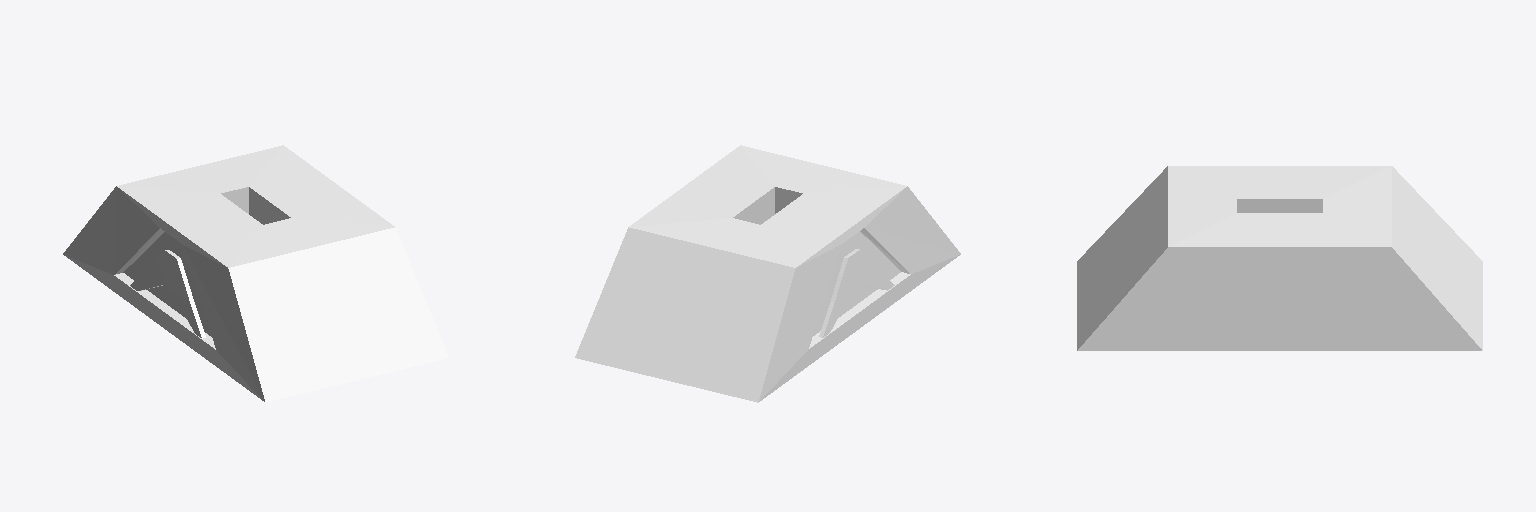
File: swordpedestal.obj
3 renders of one model, left to right at view 1: azimuth 30°, elevation 25°; view 2: azimuth 150°, elevation 25°; view 3: azimuth 270°, elevation 25°, orthographic.
Visible parts, largest first — view 1: pedestal, color; view 2: pedestal, color; view 3: pedestal.
Part boxes in pixels (bbox=[...]): pedestal: bbox=[63, 145, 448, 402]; color: bbox=[123, 232, 211, 336]; pedestal: bbox=[575, 145, 960, 402]; color: bbox=[813, 231, 900, 335]; pedestal: bbox=[1077, 166, 1482, 350].
Bounding box in the file's own units: 0.4484 × 0.234 × 0.8576.